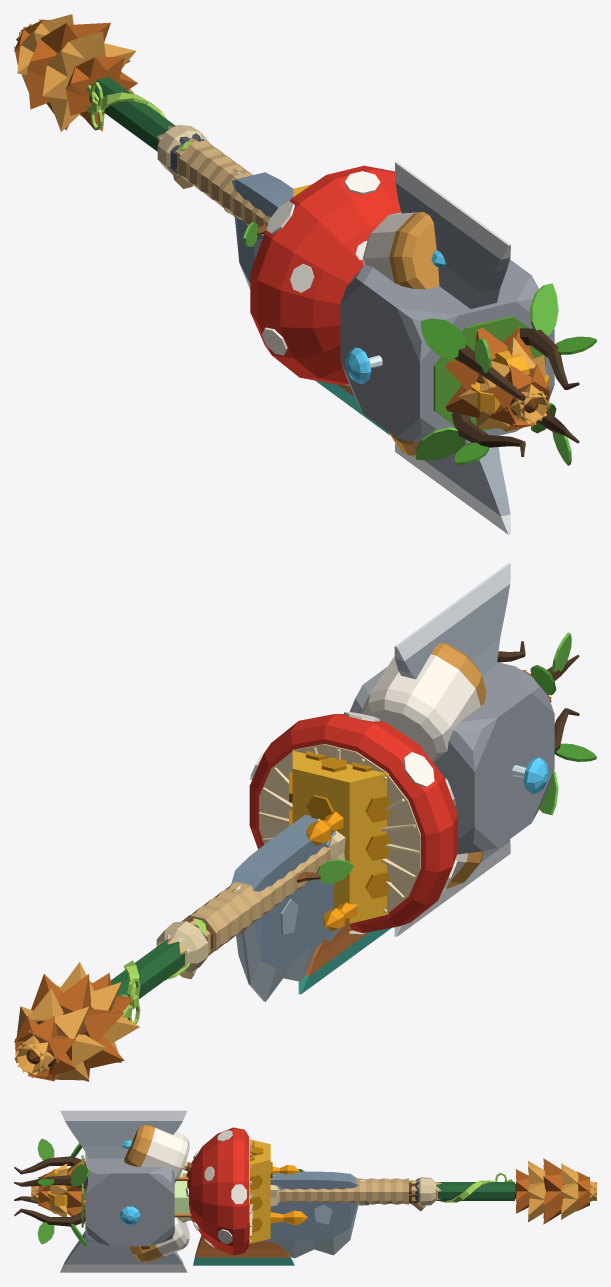
Rendered from w2_weapons.fbx.
3 views of the same model, one above another, from view 1: azimuth 30°, elevation 25°; view 2: azimuth 150°, elevation 25°; view 3: azimuth 270°, elevation 25° (orthographic). The views are drawn at different scales.
Visible parts, largest first — view 1: Mace.Cap, Greatclub.Boulder, Quarterstaff.ScalesA, WoodsmansAxe.Blades, Quarterstaff.ScalesB, WoodsmansAxe.Edges, HeartwoodStaff.Roots, Greatclub.Rope, MarshmallowStick.Toast, HeartwoodStaff.Leaves, HeartwoodStaff.LeavesDark, Cleaver.Blade (+8 smaller); view 2: Greatclub.Boulder, Mace.Cap, HoneycombHammer.Comb, Cleaver.Blade, MarshmallowStick.Marshmallows, Mace.Gills, Quarterstaff.ScalesB, Quarterstaff.ScalesA, Greatclub.Rope, WoodsmansAxe.Blades, WoodsmansAxe.Edges, HoneycombHammer.Cells (+13 smaller); view 3: Greatclub.Boulder, Mace.Cap, WoodsmansAxe.Blades, Cleaver.Blade, Quarterstaff.ScalesA, WoodsmansAxe.Edges, Greatclub.Rope, Quarterstaff.ScalesB, MarshmallowStick.Marshmallows, HoneycombHammer.Comb, HeartwoodStaff.Roots, Quarterstaff.Shaft (+16 smaller).
Part boxes in pixels (box(x1,y1,x2,y2)): Mace.Cap: box(250, 165, 400, 384); Greatclub.Boulder: box(340, 259, 554, 443); Quarterstaff.ScalesA: box(14, 19, 550, 429); WoodsmansAxe.Blades: box(395, 183, 510, 516); Quarterstaff.ScalesB: box(16, 14, 549, 428); WoodsmansAxe.Edges: box(395, 162, 510, 534); HeartwoodStaff.Roots: box(451, 328, 579, 456); Greatclub.Rope: box(179, 140, 270, 235); MarshmallowStick.Toast: box(388, 212, 439, 456); HeartwoodStaff.Leaves: box(416, 283, 571, 465); HeartwoodStaff.LeavesDark: box(421, 318, 596, 465); Cleaver.Blade: box(231, 172, 293, 283); Greatclub.Boulder: box(349, 662, 554, 854); Mace.Cap: box(249, 714, 457, 932); HoneycombHammer.Comb: box(292, 749, 388, 923); Cleaver.Blade: box(231, 814, 335, 967); MarshmallowStick.Marshmallows: box(362, 654, 480, 881); Mace.Gills: box(258, 744, 420, 915); Quarterstaff.ScalesB: box(15, 962, 139, 1080); Quarterstaff.ScalesA: box(14, 670, 551, 1081); Greatclub.Rope: box(181, 846, 331, 955); WoodsmansAxe.Blades: box(395, 584, 510, 862); WoodsmansAxe.Edges: box(394, 563, 510, 936); HoneycombHammer.Cells: box(289, 750, 390, 898); Greatclub.Boulder: box(85, 1153, 174, 1246); Mace.Cap: box(186, 1127, 248, 1255); WoodsmansAxe.Blades: box(64, 1121, 182, 1264); Cleaver.Blade: box(266, 1171, 358, 1240); Quarterstaff.ScalesA: box(38, 1158, 589, 1224); WoodsmansAxe.Edges: box(60, 1110, 187, 1272); Greatclub.Rope: box(179, 1173, 408, 1204); Quarterstaff.ScalesB: box(31, 1161, 596, 1222); MarshmallowStick.Marshmallows: box(141, 1127, 189, 1255); HoneycombHammer.Comb: box(249, 1139, 270, 1243); HeartwoodStaff.Roots: box(14, 1156, 85, 1226); Quarterstaff.Shaft: box(436, 1182, 514, 1200).
Size of the model in its own units: 2.28 by 3.2 by 10.45.
